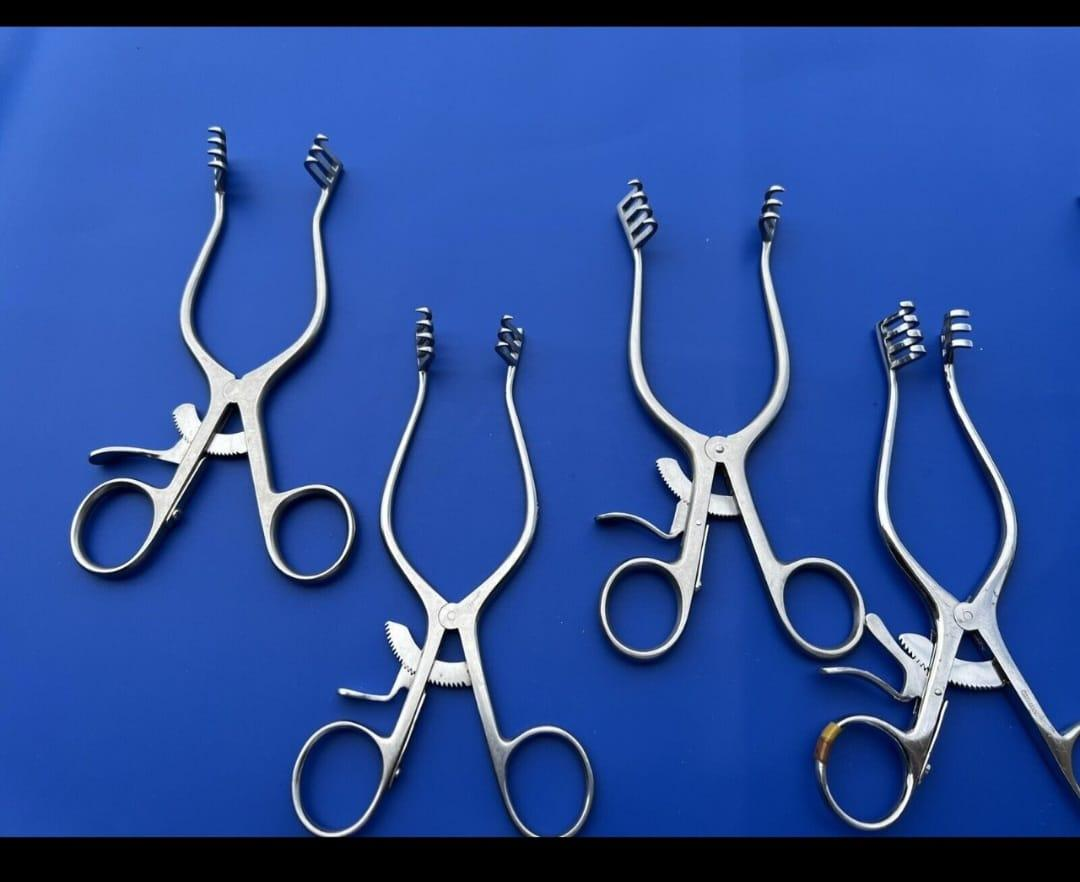Self Retractor: (295, 298, 601, 838), (824, 286, 1080, 834), (591, 172, 869, 662), (76, 119, 355, 595)
